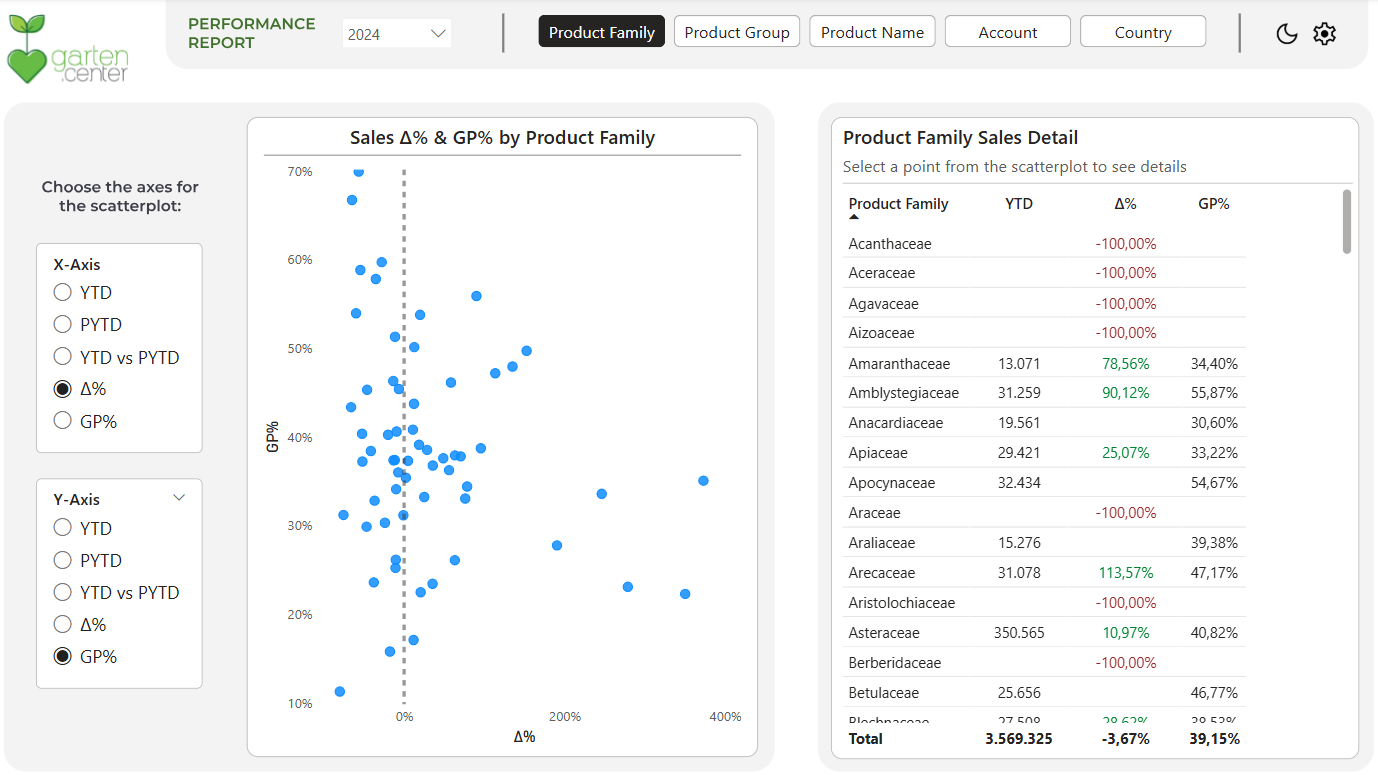

What the dashboard file says about the page in this screenshot:
{"tool":"powerbi","page":{"name":"Sales Analyzer","canvas":[1280,720],"ordinal":7},"visuals":[{"type":"slicer","fields":{"Values":["Dim_Date.Year"]},"box":[325,13.5,109.5,35.1],"z":0},{"type":"scatterChart","fields":{"Category":["Dim_Product.Product_Family"],"X":["_Measures.∆%"],"Y":["_Measures.GP%"]},"box":[254.1,113,440.7,565],"z":2000},{"type":"shape","box":[471.5,14.9,6.8,35.1],"z":3000},{"type":"shape","box":[1135.4,14.9,6.8,35.1],"z":4000},{"type":"pivotTable","fields":{"Rows":["Dim_Product.Product_Family"],"Values":["_Measures.YTD","_Measures.∆%","_Measures.GP%"]},"box":[770.5,108.1,475.8,578.5],"z":5000},{"type":"advancedSlicerVisual","fields":{"Values":["prmProductAll.prmProductAll"]},"box":[500,16.2,613.7,29.7],"z":6000},{"type":"image","box":[1161.7,12.9,35,39],"z":7000},{"type":"image","box":[1195.7,12.9,35,39],"z":8000},{"type":"slicer","fields":{"Values":["prmX-Axis.prmX-Axis"]},"box":[54.1,221.7,150,189.2],"z":9000},{"type":"slicer","fields":{"Values":["prmY-Axis.prmY-Axis"]},"box":[54.1,433.9,150,189],"z":10000}]}

Visuals, with their boxes in screenshot pixels (x1, y1, x2, y2), scaled from the page's 1280x720 canvas onto the 1378x775 screenshot:
slicer - Dim_Date.Year: detection(350, 15, 468, 52)
scatterChart - Dim_Product.Product_Family x _Measures.∆%: detection(274, 122, 748, 730)
shape: detection(508, 16, 515, 54)
shape: detection(1222, 16, 1230, 54)
pivotTable - Dim_Product.Product_Family x _Measures.YTD: detection(829, 116, 1342, 739)
advancedSlicerVisual - prmProductAll.prmProductAll: detection(538, 17, 1199, 49)
image: detection(1251, 14, 1288, 56)
image: detection(1287, 14, 1325, 56)
slicer - prmX-Axis.prmX-Axis: detection(58, 239, 220, 442)
slicer - prmY-Axis.prmY-Axis: detection(58, 467, 220, 670)
